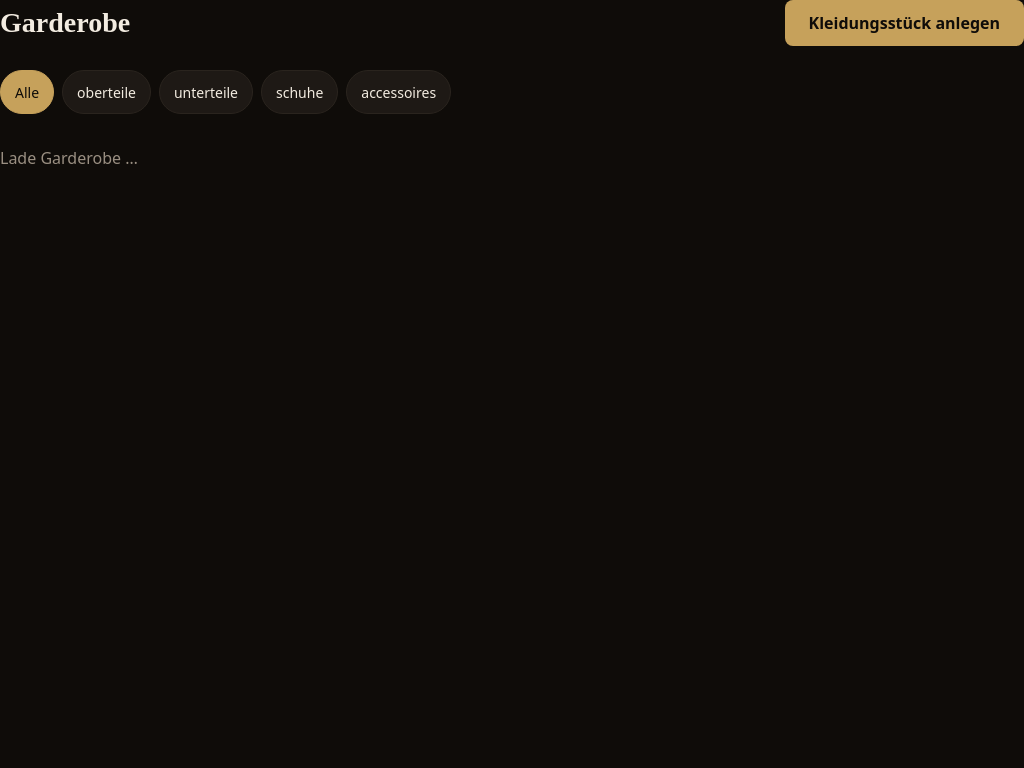
Scenario: WardrobePage – Fehlermeldungen › zeigt eine verständliche Meldung bei zu großem Upload (413)
The width and height of the screenshot is (1024, 768).
Click the button "Kleidungsstück anlegen". click: click(904, 23)
box: [785,0,1023,46]
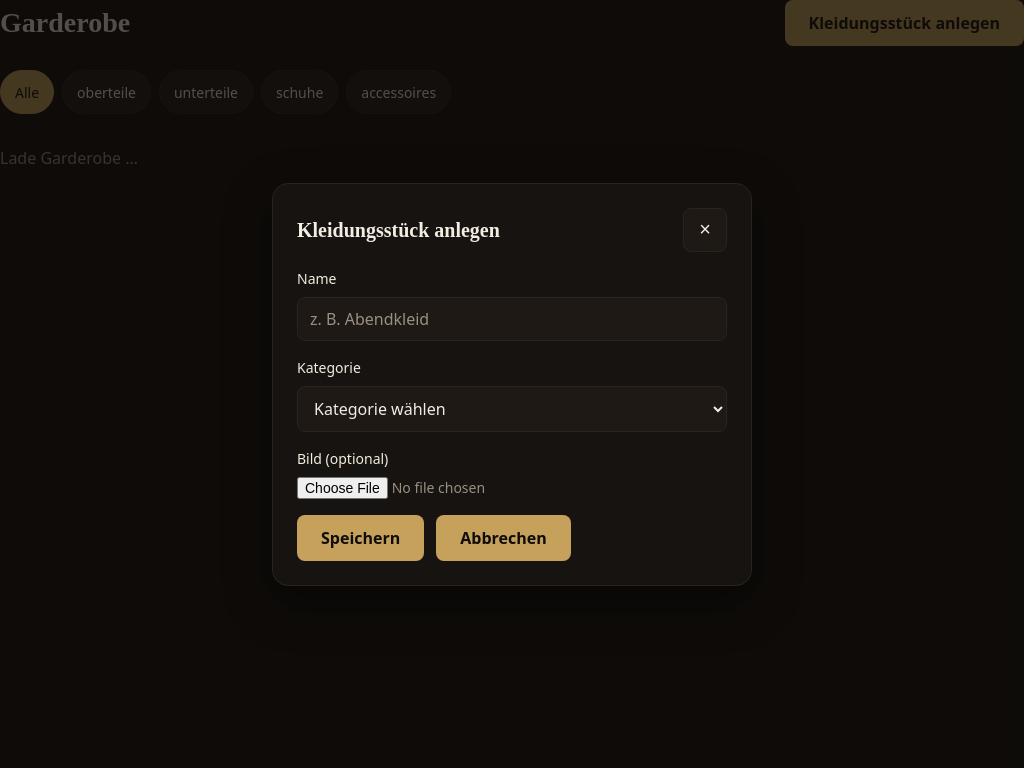
Expected: the field labelled "Name" is shown
Type "Abendkleid" into the field labelled "Name". click: (512, 318)
box: [297,296,727,340]
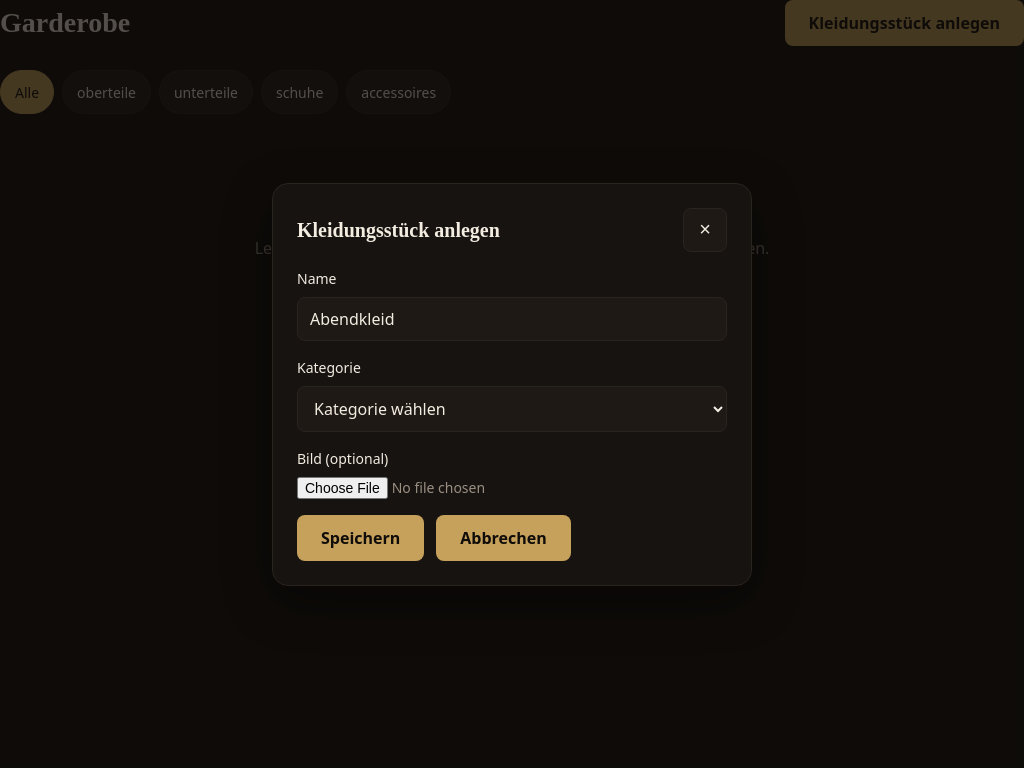
Select "oberteile" in the dropdown labelled "Kategorie". click: (512, 408)
box: [297,386,727,432]
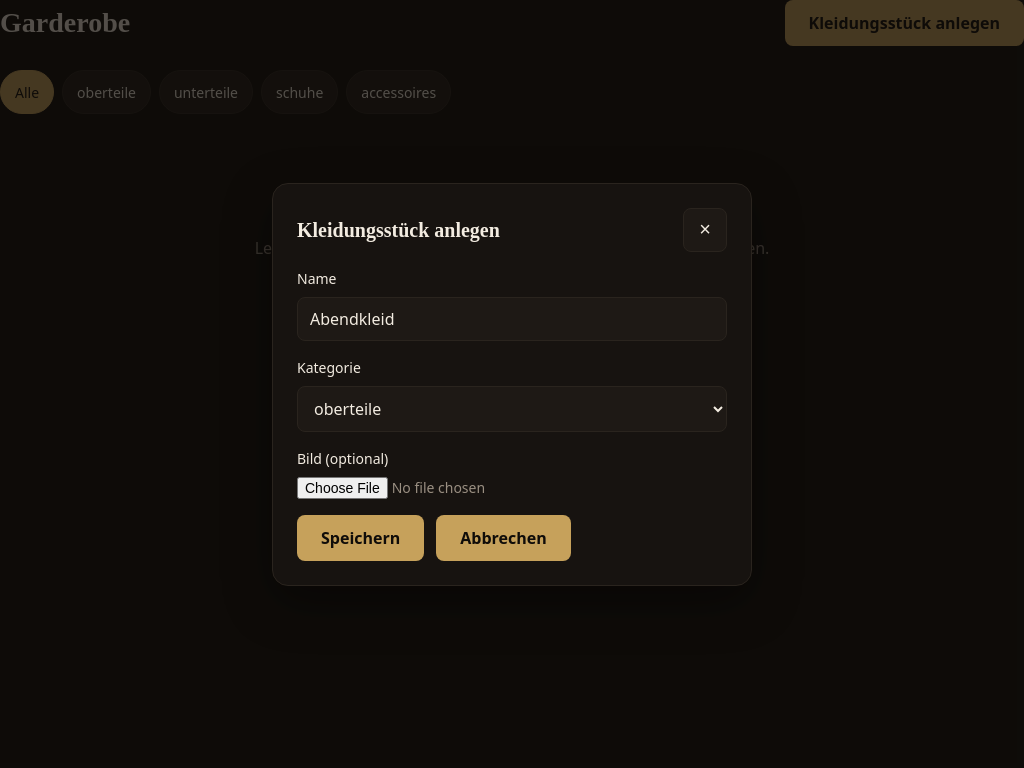
Click the button "Speichern". click: click(361, 538)
box: [297,514,424,560]
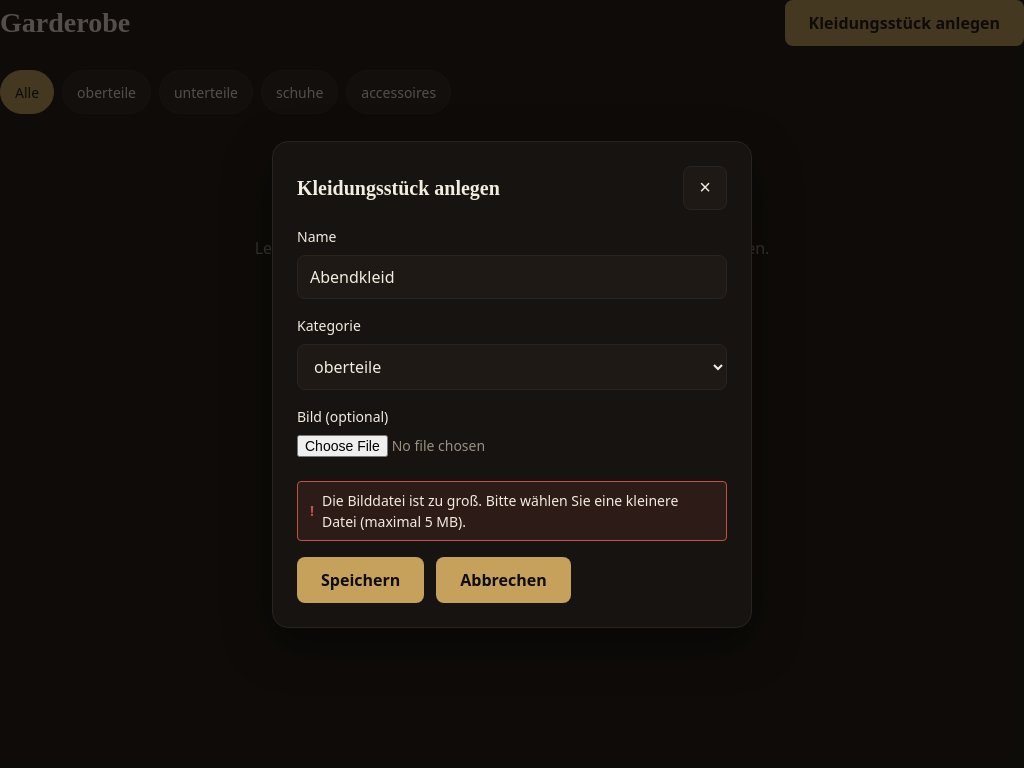
Expected: the text "zu groß" is shown, [322,490,678,530]
